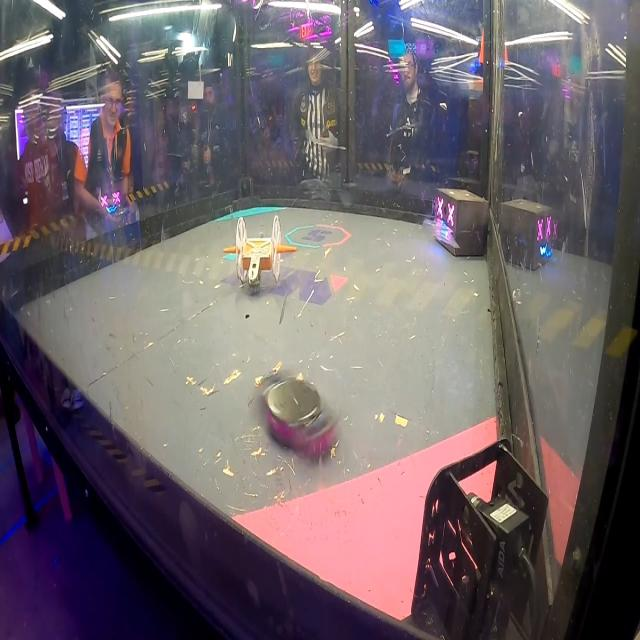brick: (432, 181, 491, 263)
